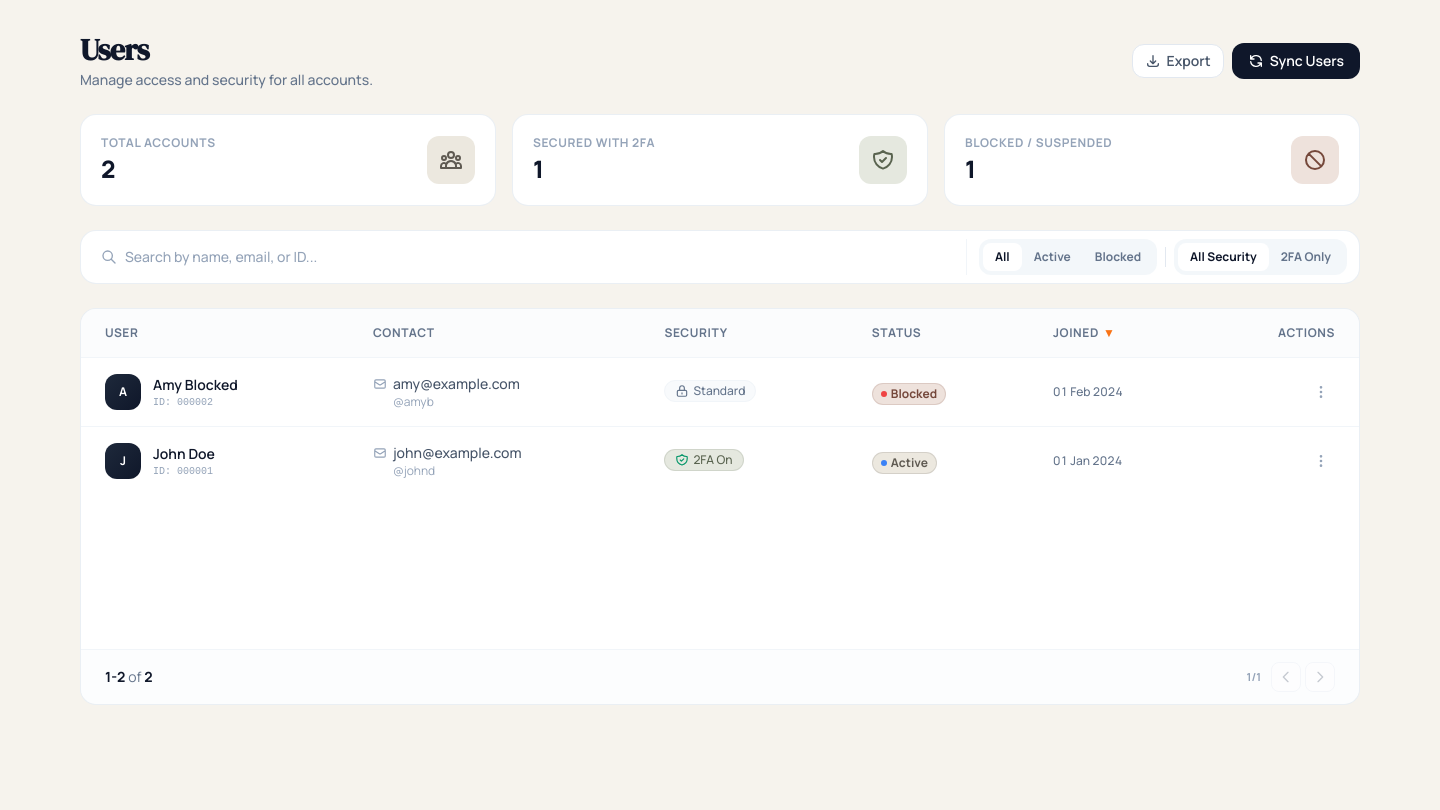
Test: AdminUsers Component › filters the list to only blocked users via the tab
Click the button "Blocked". click: (1118,257)
box: [1083, 243, 1153, 271]
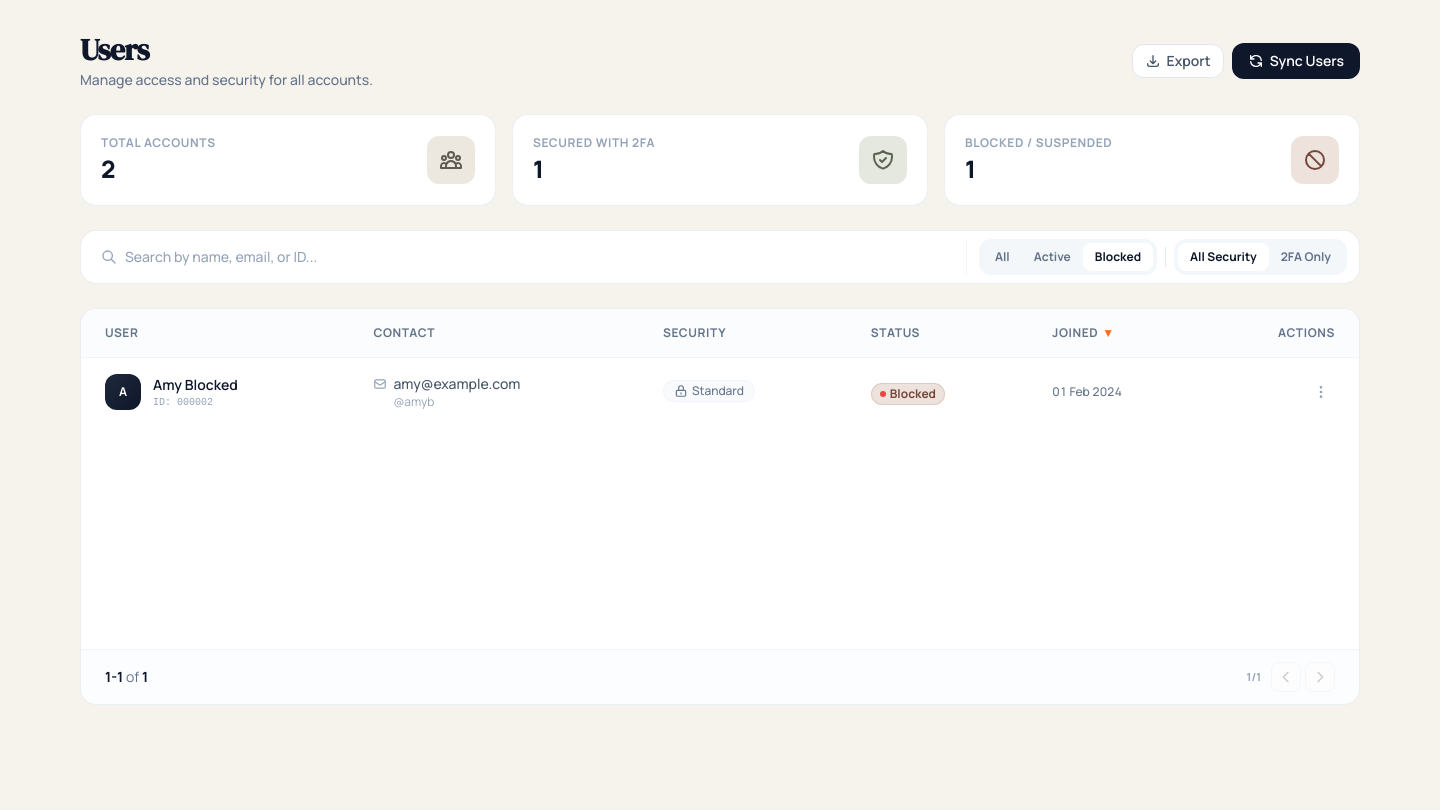
Expected: the text "Amy Blocked" is shown, [153, 374, 238, 394]
Result: the text "John Doe" is gone
